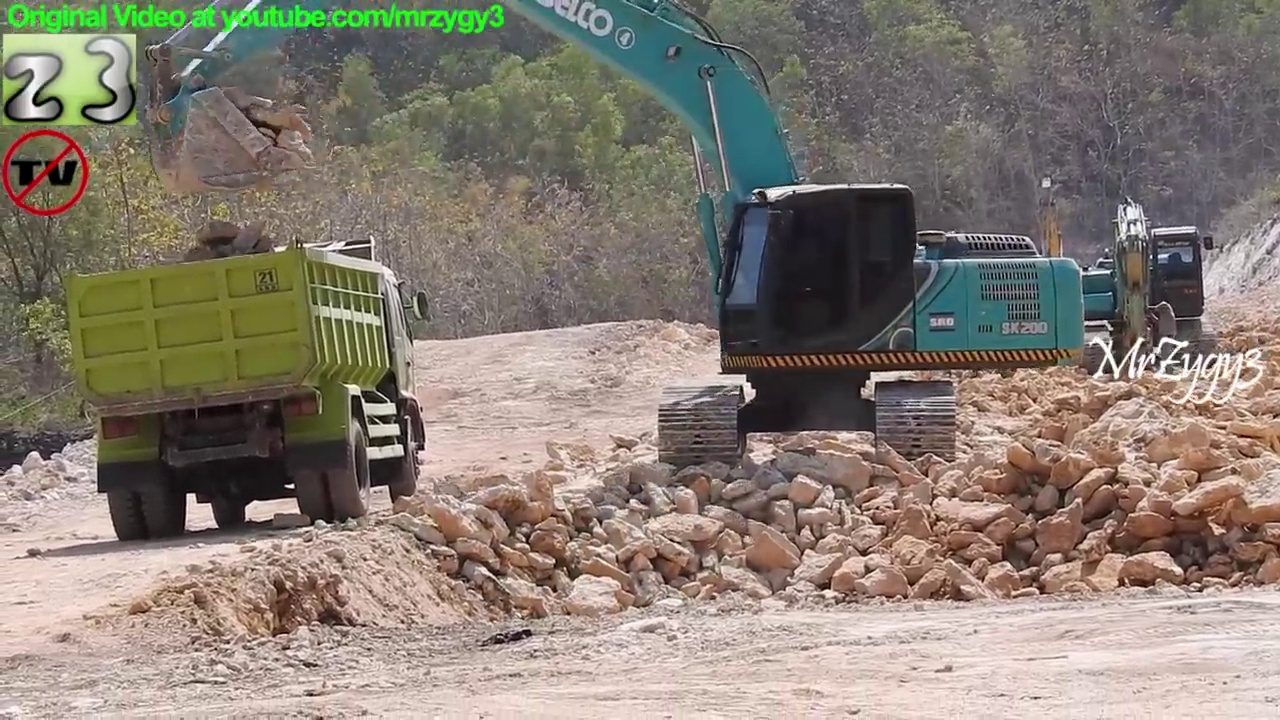excavator: (132, 1, 1095, 485), (1061, 192, 1224, 386), (991, 168, 1126, 359)
truck: (55, 231, 436, 544)
worker: (1141, 289, 1185, 381)
